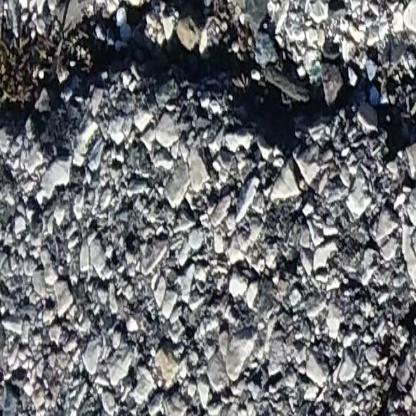Cracks: (0, 0, 416, 195), (375, 253, 416, 416)
